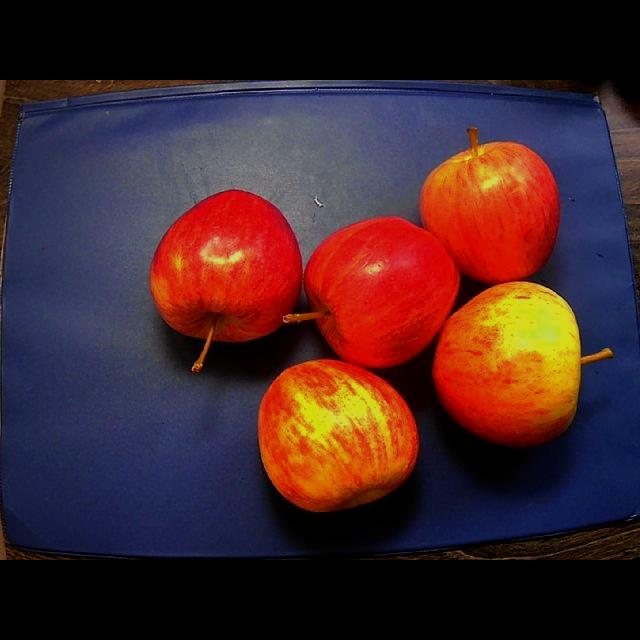manzana: (432, 281, 612, 447), (150, 190, 302, 372), (283, 217, 459, 367), (258, 359, 418, 511), (419, 127, 559, 283)
